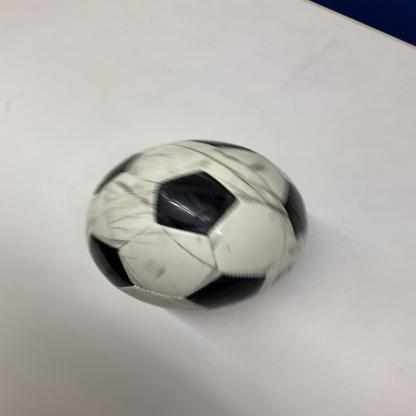ball: (84, 139, 305, 312)
